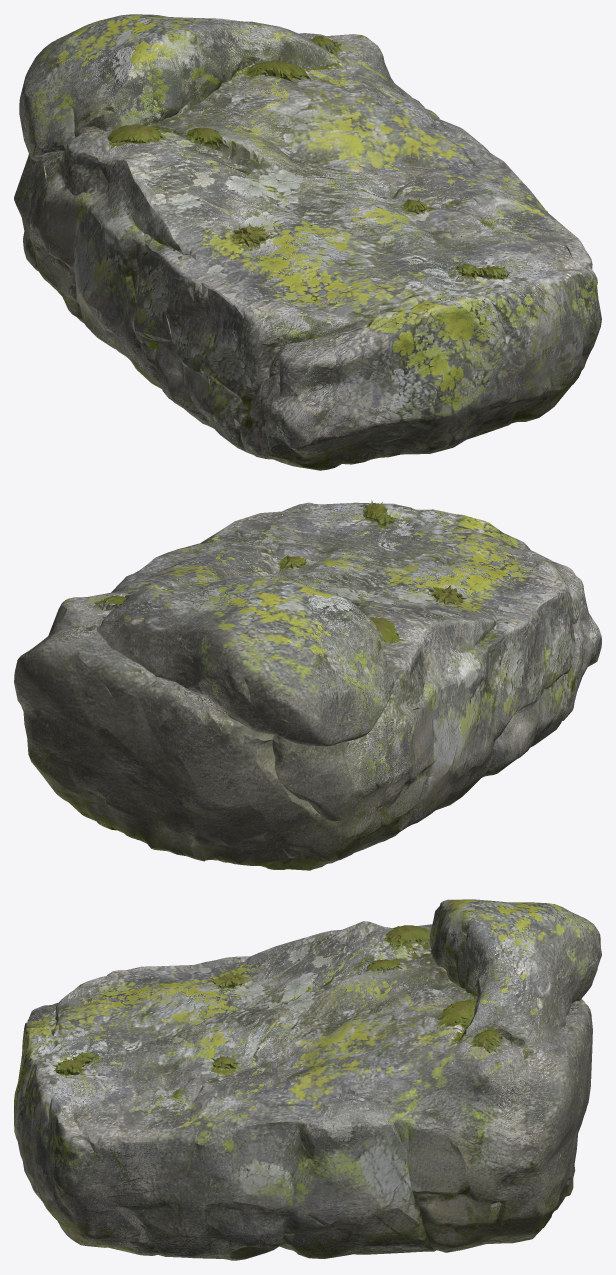
File: granite_hf.glb
The picture shows the model from 3 angles, top to bottom: view 1: azimuth 30°, elevation 25°; view 2: azimuth 150°, elevation 25°; view 3: azimuth 270°, elevation 25°; orthographic projection. The views are drawn at different scales.
Parts seen in each view (by area): view 1: Mesh_0; view 2: Mesh_0; view 3: Mesh_0.
Part boxes in pixels (<box>): Mesh_0: <box>14,14,601,470</box>; Mesh_0: <box>14,500,601,870</box>; Mesh_0: <box>14,899,601,1260</box>.
Bounding box in the file's own units: 1.34 × 0.9359 × 1.9.
Materials: 1 (1 with a texture image).
